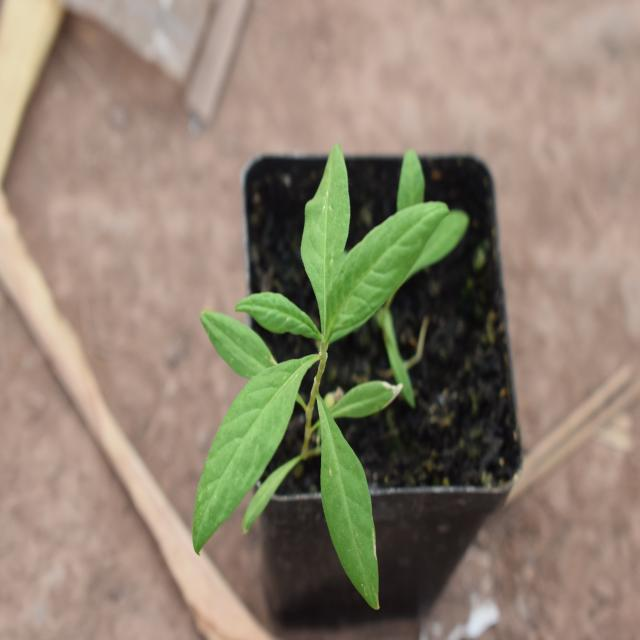white_smart_weed: (191, 135, 441, 606)
